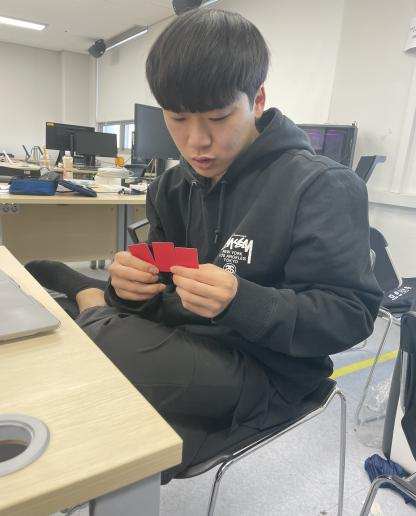ThreeHwatoo: (119, 235, 210, 276)
